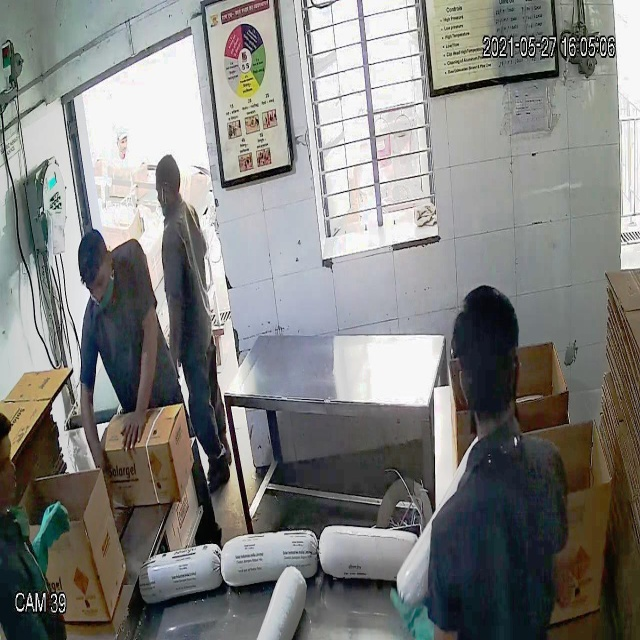Sin_gafas: (82, 264, 116, 300)
